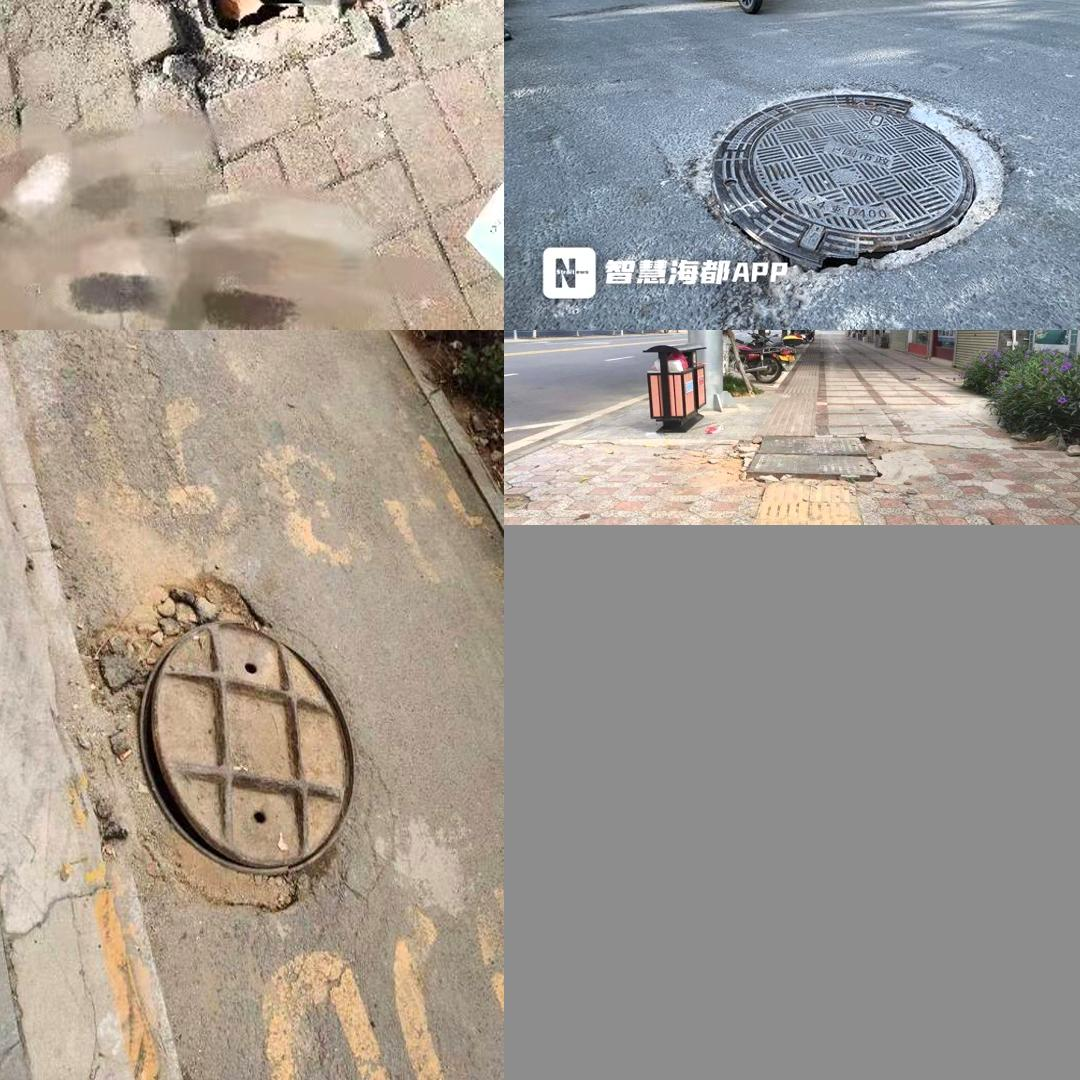circle: (51, 541, 376, 951), (655, 64, 1054, 292), (707, 423, 904, 502), (124, 0, 504, 26)
